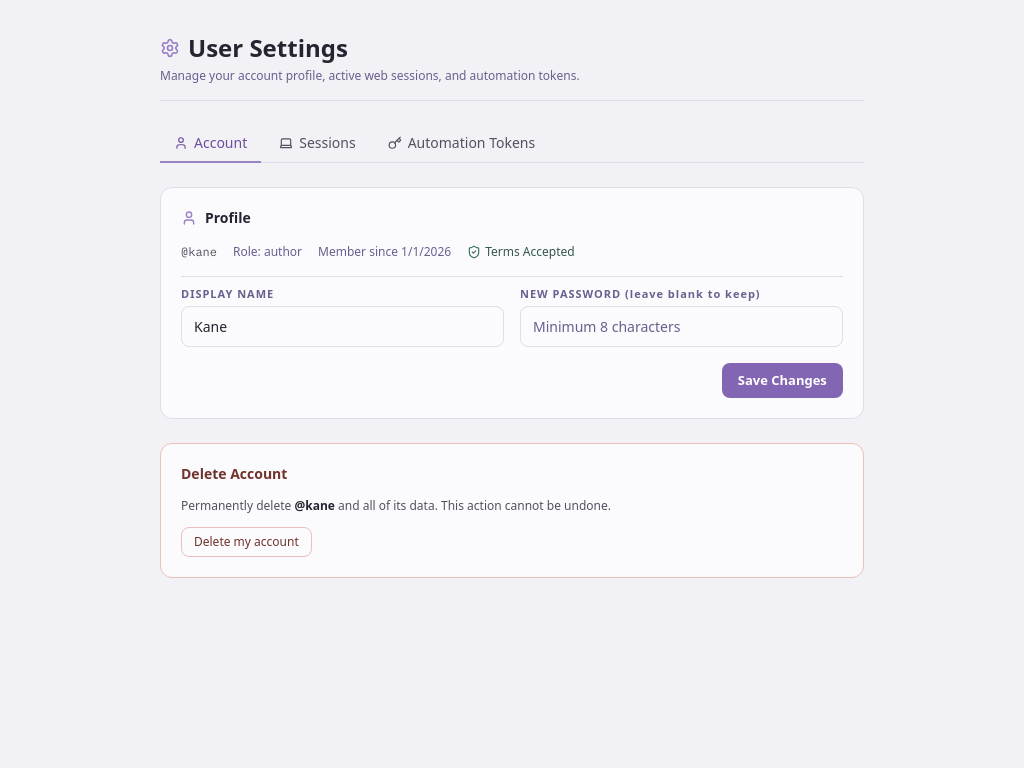
Test case: SettingsPage › deletes an automation token after confirmation
Click the tab "Automation Tokens" at (461, 144), box [374, 125, 549, 163]
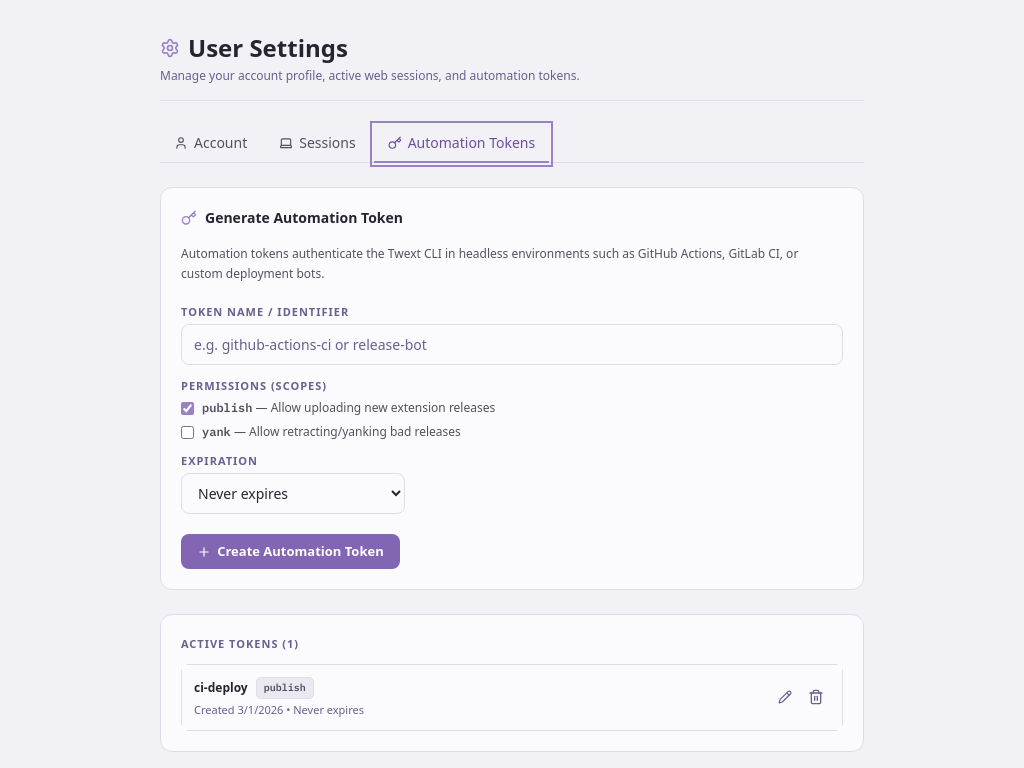
Check: the heading "Active Tokens (1)" is shown, box [181, 636, 299, 651]
Click the button named "Revoke Token" at (816, 698), box [802, 684, 830, 712]
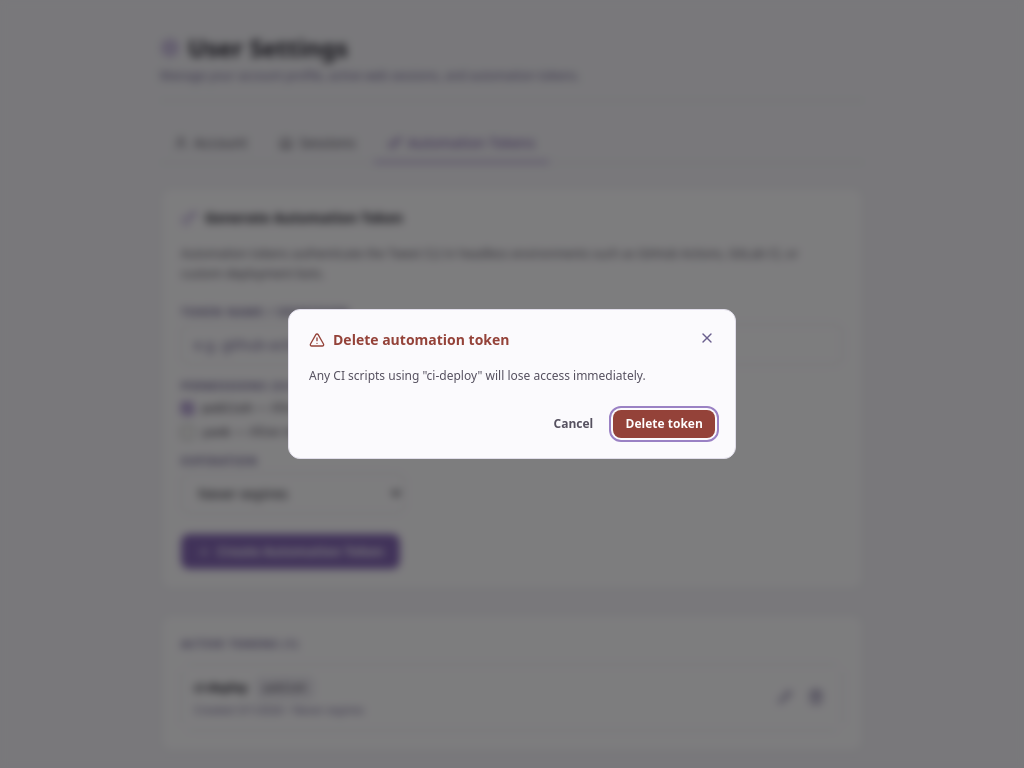
Click the button "Delete token" at (664, 424), box [613, 410, 715, 438]
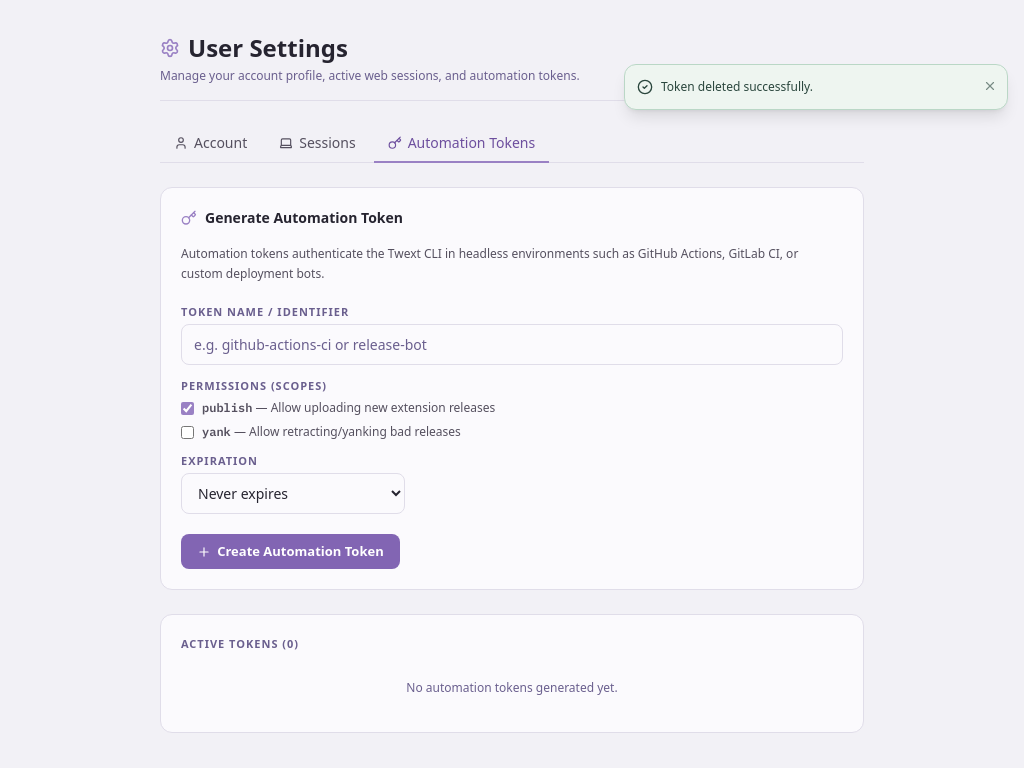
Check: the text "Token deleted successfully." is shown, box [661, 78, 813, 95]
